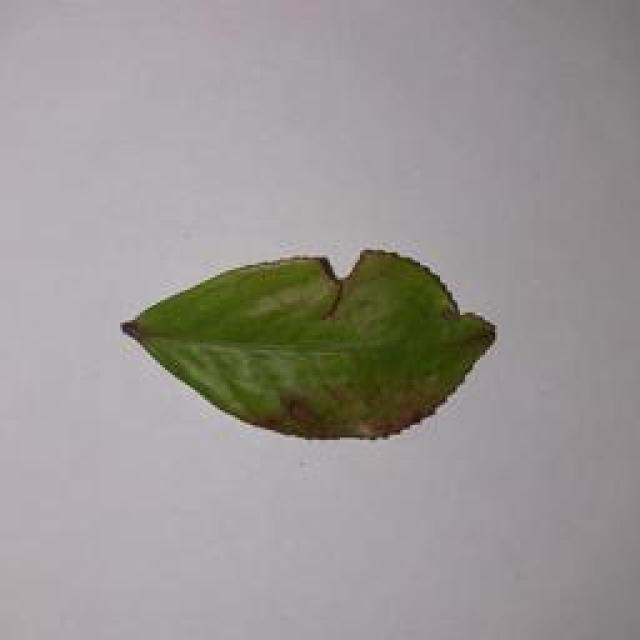Red Leaf Spot: (121, 241, 495, 443)
